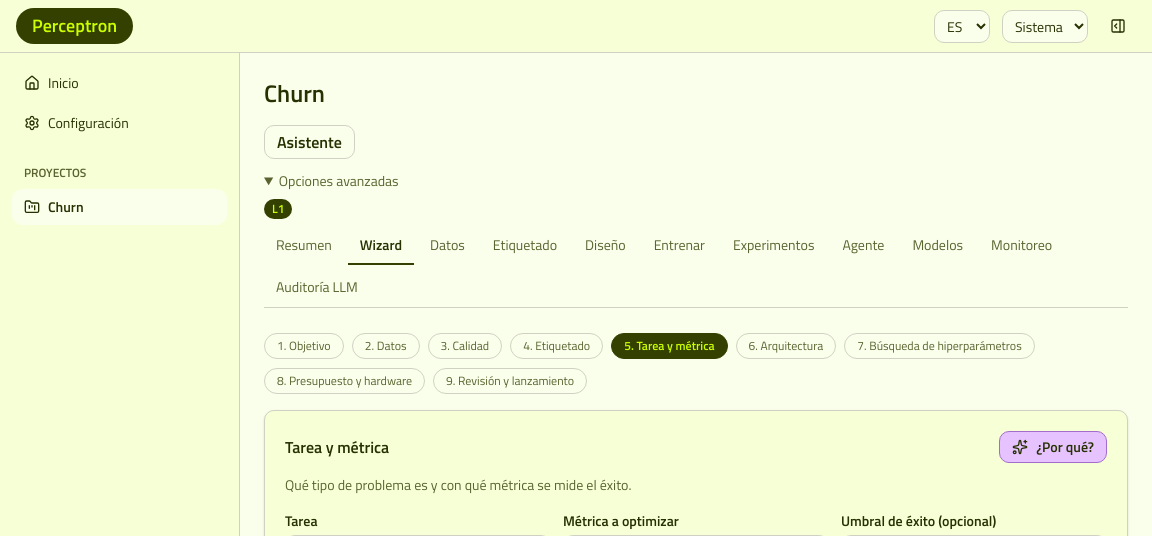
wizard y copiloto › ¿Por qué? abre el copiloto y pregunta por el paso actual (RF-WIZ-02)
Click the button "¿Por qué?": (1053, 447) [999,431,1107,463]
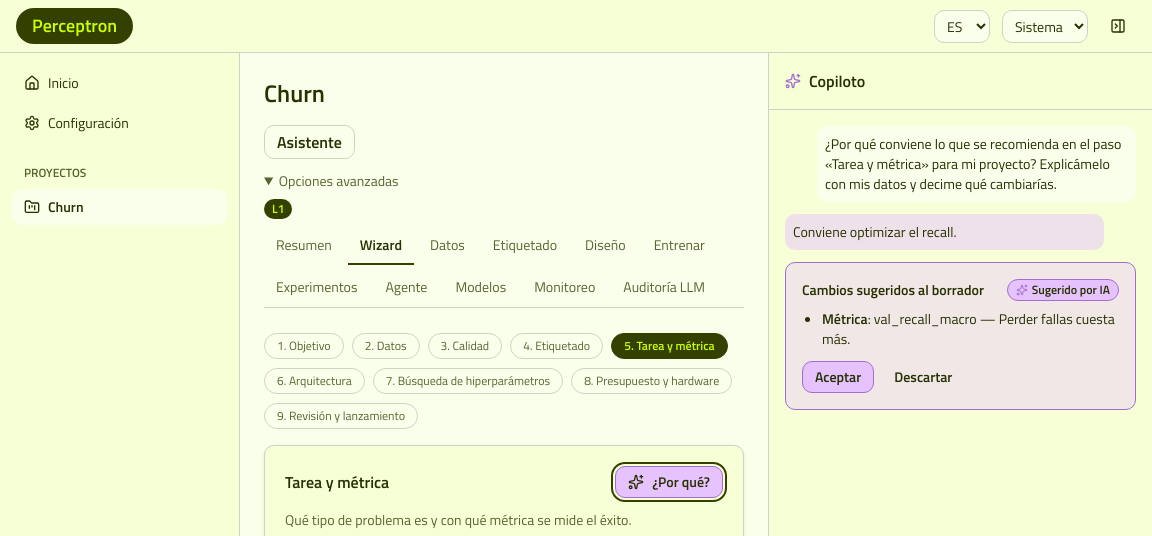
Expected: the text "Conviene optimizar el recall." is shown, [785,214,1104,250]
